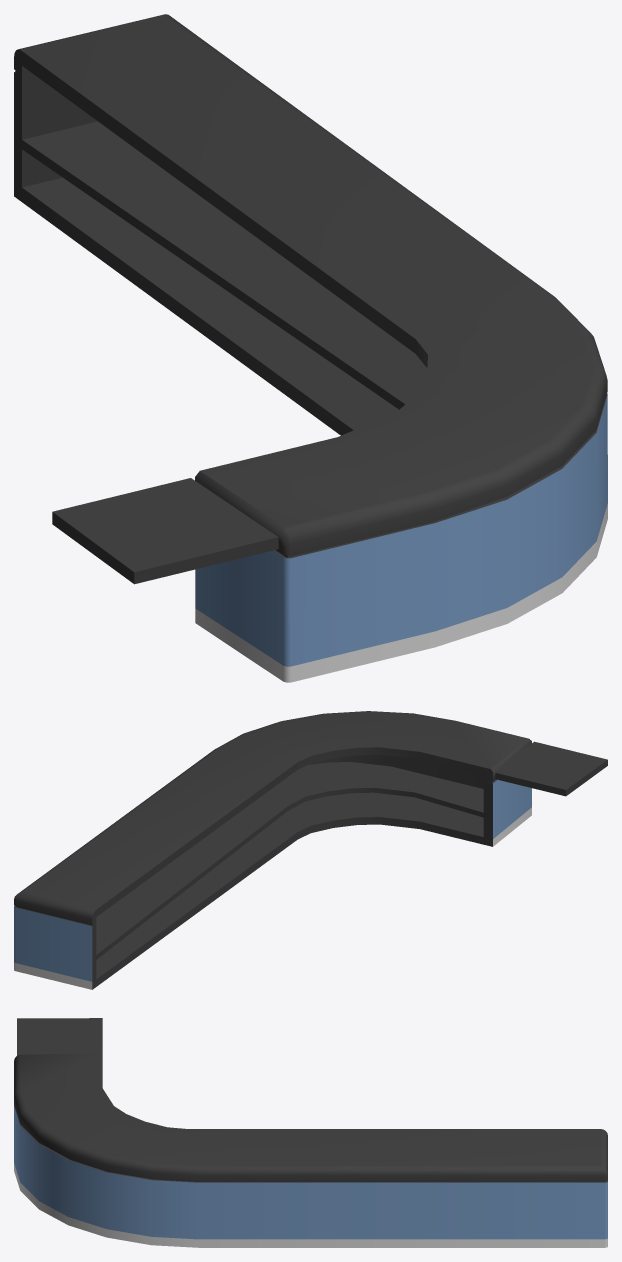
File: CC_Bar.fbx
3 renders of one model, top to bottom at view 1: azimuth 30°, elevation 25°; view 2: azimuth 150°, elevation 25°; view 3: azimuth 270°, elevation 25°, orthographic. The views are drawn at different scales.
Visible parts, largest first — view 1: CC_Bar; view 2: CC_Bar; view 3: CC_Bar.
Boxes of the visible parts, <box> form: CC_Bar: <box>14,14,607,682</box>; CC_Bar: <box>14,711,607,989</box>; CC_Bar: <box>14,1018,607,1247</box>.
Size of the model in its own units: 555 by 134 by 909.
